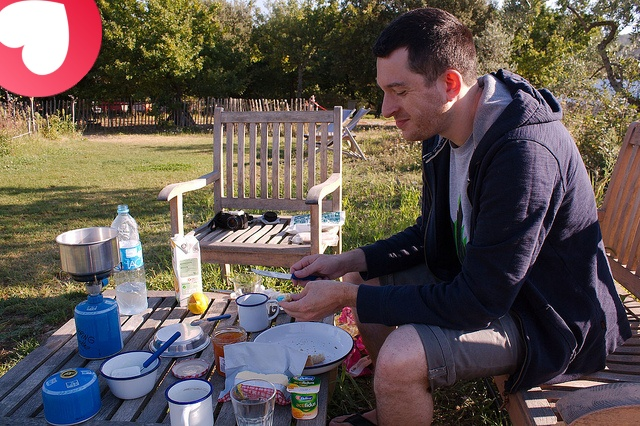love: (0, 0, 102, 97)
